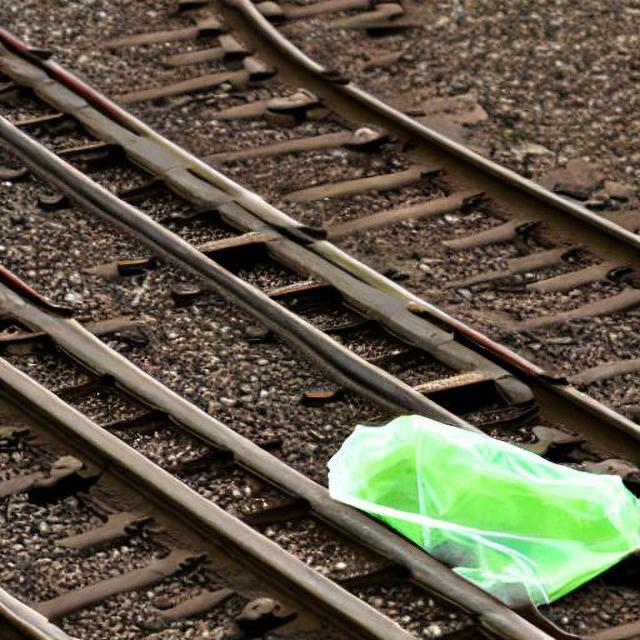plastic bag: (314, 405, 640, 613)
